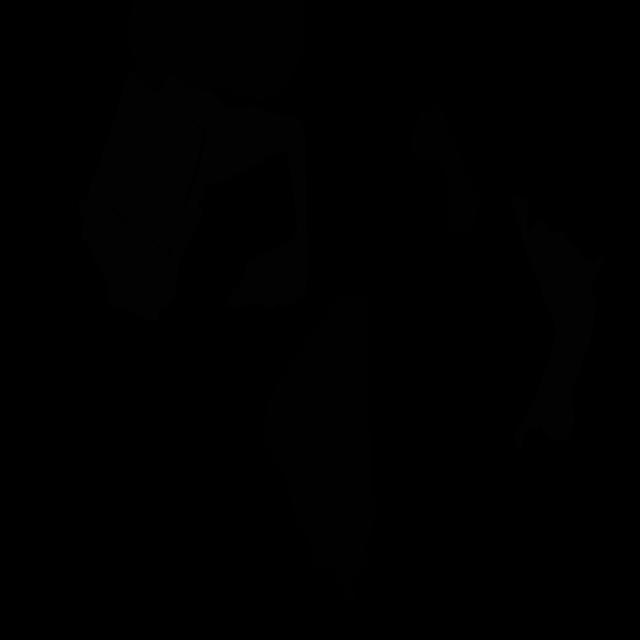cardboard: (155, 72, 310, 310), (509, 197, 605, 448), (84, 72, 202, 251), (78, 196, 178, 320)
rigid_plastic: (264, 295, 377, 602), (130, 0, 306, 103), (410, 100, 479, 233)
